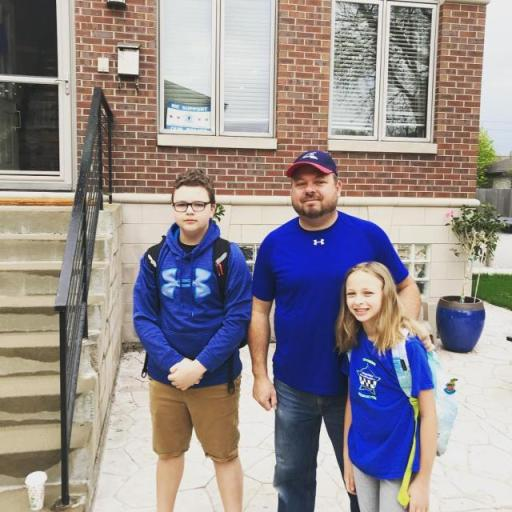Under Armour: (157, 267, 211, 301), (312, 238, 324, 246)
